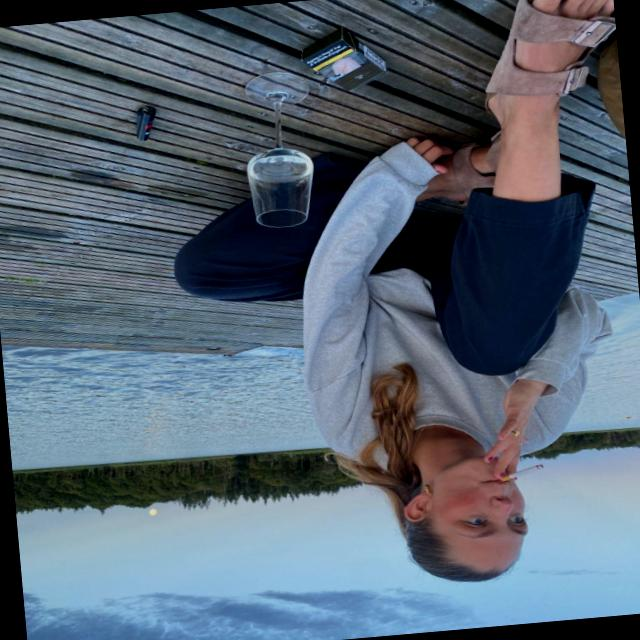cigarette: (476, 450, 562, 494)
